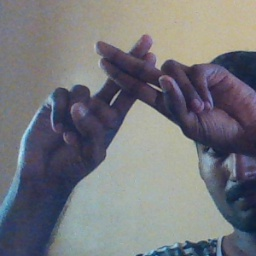F: (60, 31, 209, 151)
